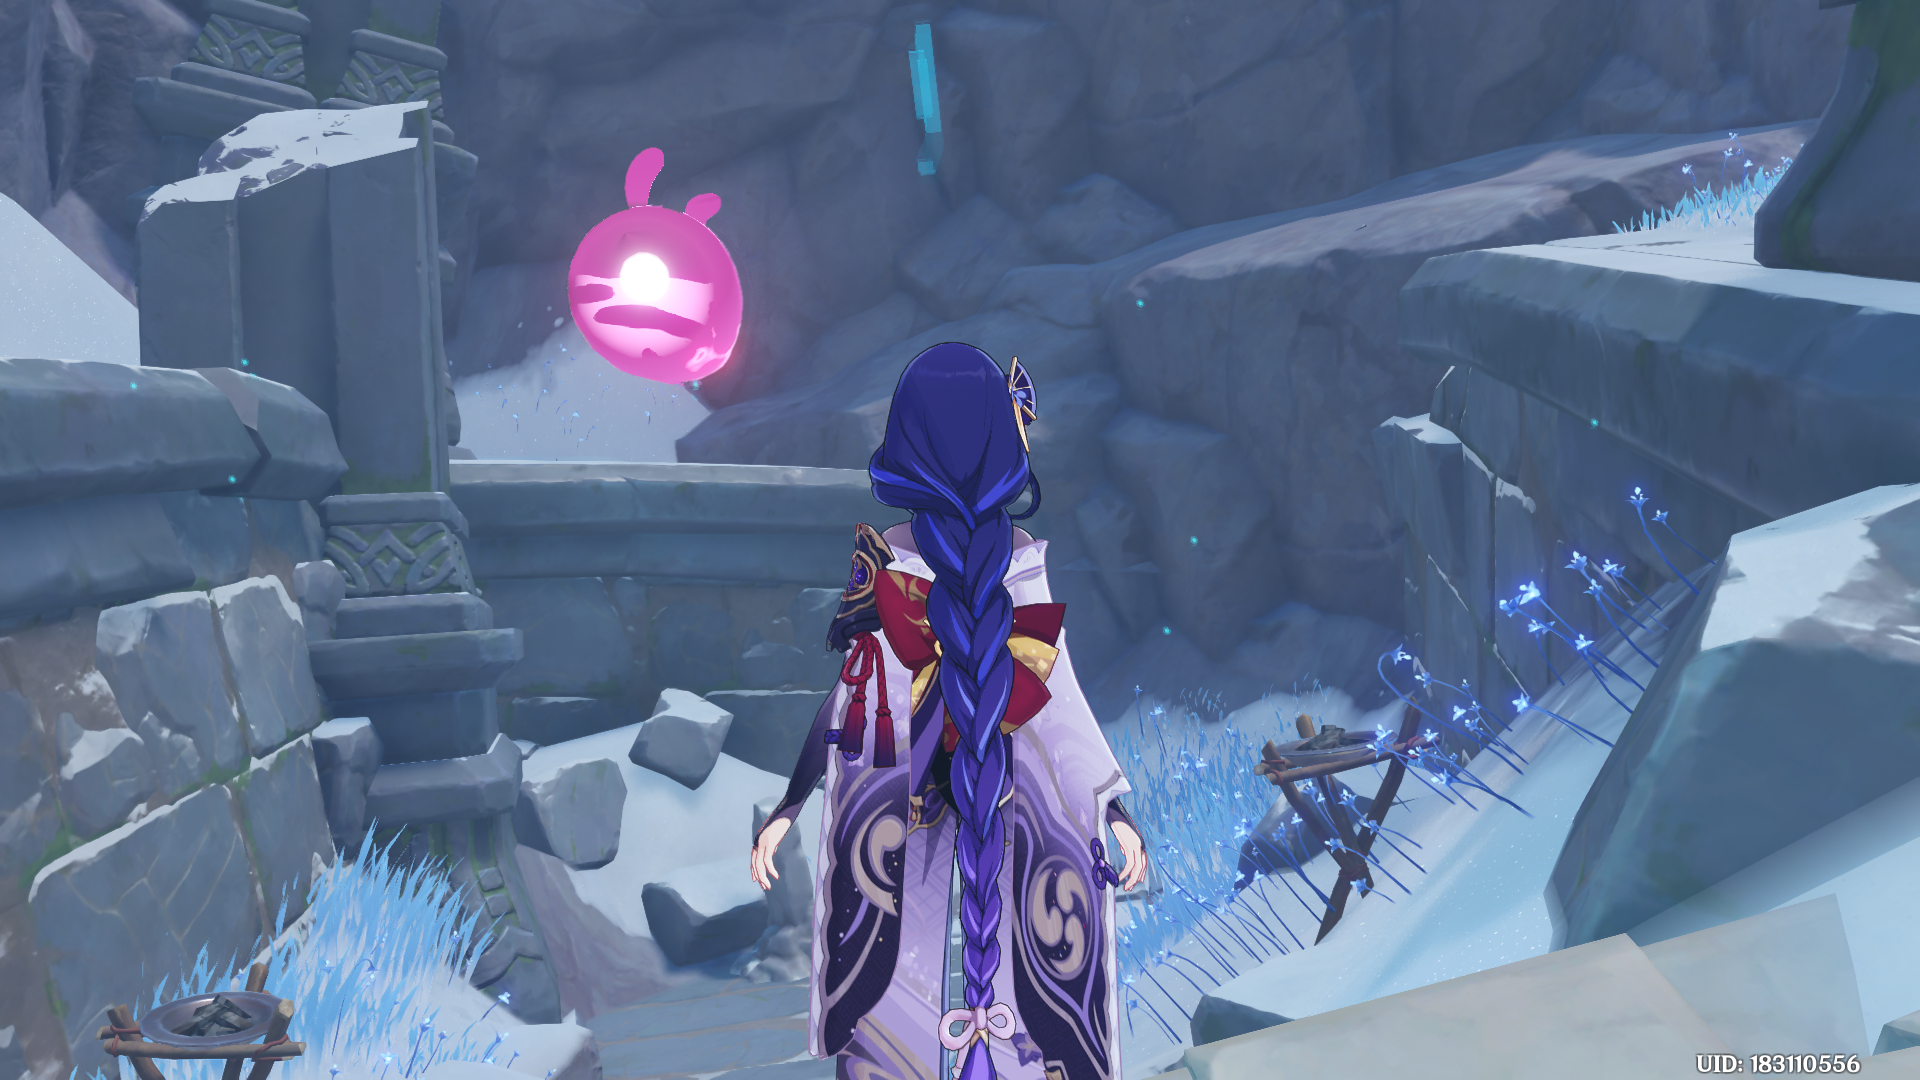character: (690, 291, 1170, 1080)
